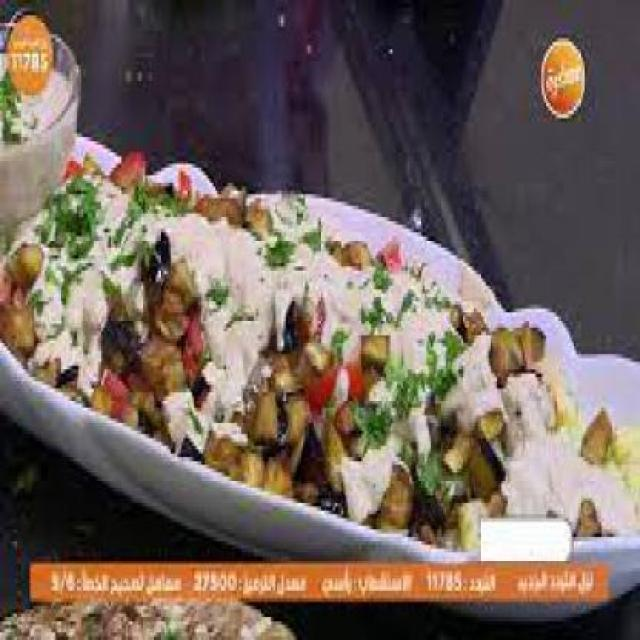eggplant: (2, 156, 636, 549)
hummus: (19, 178, 636, 518)
